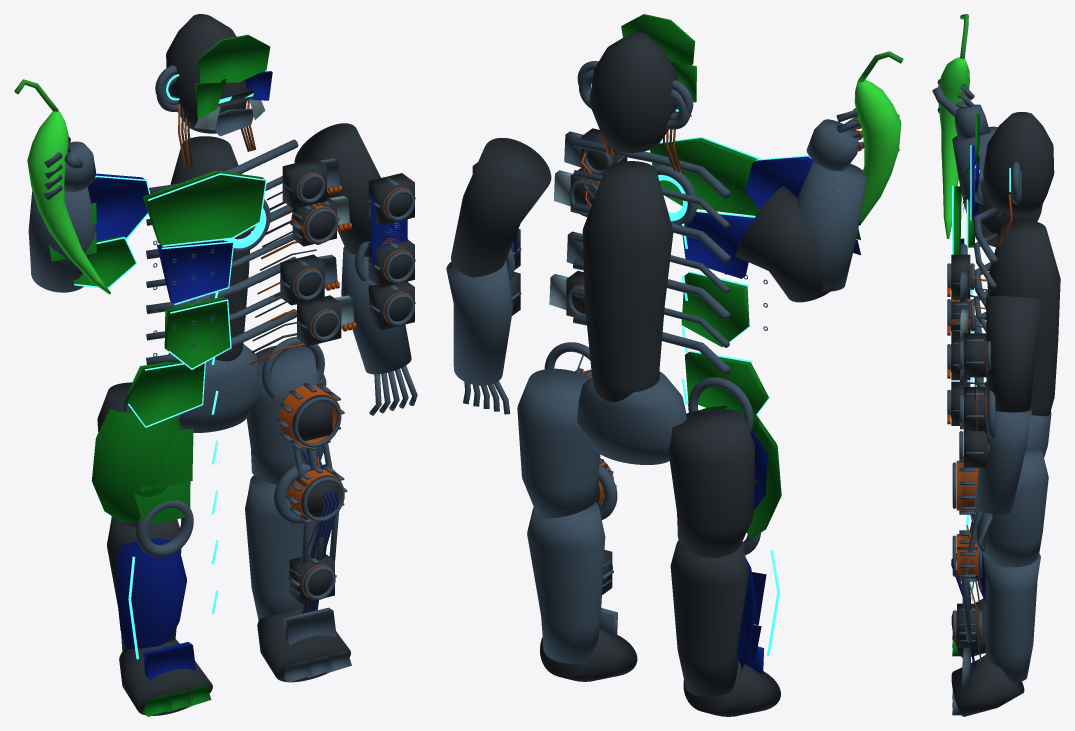
Rendered from robot.glb.
3 renders of one model, left to right at view 1: azimuth 30°, elevation 25°; view 2: azimuth 150°, elevation 25°; view 3: azimuth 270°, elevation 25°, orthographic. The views are drawn at different scales.
Visible parts, largest first — view 1: V4_ARMOR_BREASTPLATE, V4_LEFT_ARMOR_MORPHED_THIGH, V4_LEFT_CURVED_SHIN_COBALT, MECHANICS_SHIN_ASTRAGALUS, MECHANICS_THIGH_FEMUR, RIGHT_EXPOSED_ARM_STRUCTURAL_UPPER, V4_DOWNWARD_CURVED_GREEN_CHILI, V4_TAPERED_HIP_LOAD_BEAM, V4_SKULL_STRUCTURAL_TAPER, LEFT_ARM_RAISED_FOREARM, RIGHT_EXPOSED_FOREARM_ACTUATOR, V4_ARMOR_SIDE_HIP (+34 smaller); view 2: V4_CENTRAL_SPINE_GIMBAL, ARMOR_THIGH_FEMUR, MECHANICS_SHIN_ASTRAGALUS, MECHANICS_THIGH_FEMUR, ARMOR_SHIN_ASTRAGALUS, RIGHT_EXPOSED_ARM_STRUCTURAL_UPPER, V4_SKULL_STRUCTURAL_TAPER, V4_TAPERED_HIP_LOAD_BEAM, RIGHT_EXPOSED_FOREARM_ACTUATOR, LEFT_ARM_RAISED_BICEPS, LEFT_ARM_RAISED_FOREARM, V4_ARMOR_BREASTPLATE (+20 smaller); view 3: V4_CENTRAL_SPINE_GIMBAL, RIGHT_EXPOSED_ARM_STRUCTURAL_UPPER, MECHANICS_SHIN_ASTRAGALUS, V4_SKULL_STRUCTURAL_TAPER, MECHANICS_THIGH_FEMUR, RIGHT_EXPOSED_FOREARM_ACTUATOR, MECHANICS_FOOT_SHELL, V4_DOWNWARD_CURVED_GREEN_CHILI, LEFT_ARM_RAISED_FOREARM, LEFT_ARM_RAISED_BICEPS, RIGHT_ELBOW_SHOULDER_BRUSHLESS_MOTOR_01_STATOR_BLOCK, RIGHT_ELBOW_SHOULDER_BRUSHLESS_MOTOR_02_STATOR_BLOCK (+25 smaller).
Part boxes in pixels (x1,y1,x2,y2): V4_ARMOR_BREASTPLATE: (143,170,265,245); V4_LEFT_ARMOR_MORPHED_THIGH: (92,409,180,522); V4_LEFT_CURVED_SHIN_COBALT: (116,538,186,649); MECHANICS_SHIN_ASTRAGALUS: (245,475,316,620); MECHANICS_THIGH_FEMUR: (246,345,326,484); RIGHT_EXPOSED_ARM_STRUCTURAL_UPPER: (294,123,392,256); V4_DOWNWARD_CURVED_GREEN_CHILI: (27,111,110,294); V4_TAPERED_HIP_LOAD_BEAM: (168,344,260,432); V4_SKULL_STRUCTURAL_TAPER: (166,14,247,133); LEFT_ARM_RAISED_FOREARM: (28,187,96,292); RIGHT_EXPOSED_FOREARM_ACTUATOR: (341,247,411,374); V4_ARMOR_SIDE_HIP: (124,361,204,425); V4_CENTRAL_SPINE_GIMBAL: (582,161,673,401); ARMOR_THIGH_FEMUR: (668,408,755,557); MECHANICS_SHIN_ASTRAGALUS: (527,502,605,663); MECHANICS_THIGH_FEMUR: (517,368,600,518); ARMOR_SHIN_ASTRAGALUS: (670,540,748,696); RIGHT_EXPOSED_ARM_STRUCTURAL_UPPER: (451,138,551,277); V4_SKULL_STRUCTURAL_TAPER: (589,32,677,152); V4_TAPERED_HIP_LOAD_BEAM: (577,372,686,464); RIGHT_EXPOSED_FOREARM_ACTUATOR: (446,260,513,385); LEFT_ARM_RAISED_BICEPS: (735,186,834,302); LEFT_ARM_RAISED_FOREARM: (797,161,866,291); V4_ARMOR_BREASTPLATE: (650,138,760,215); V4_CENTRAL_SPINE_GIMBAL: (987,220,1060,416); RIGHT_EXPOSED_ARM_STRUCTURAL_UPPER: (986,296,1042,412); MECHANICS_SHIN_ASTRAGALUS: (983,554,1040,682); V4_SKULL_STRUCTURAL_TAPER: (983,112,1054,214); MECHANICS_THIGH_FEMUR: (981,447,1048,567); RIGHT_EXPOSED_FOREARM_ACTUATOR: (974,408,1031,514); MECHANICS_FOOT_SHELL: (951,655,1024,716); V4_DOWNWARD_CURVED_GREEN_CHILI: (938,57,969,238); LEFT_ARM_RAISED_FOREARM: (952,126,997,213); LEFT_ARM_RAISED_BICEPS: (978,179,1042,247); RIGHT_ELBOW_SHOULDER_BRUSHLESS_MOTOR_01_STATOR_BLOCK: (964,387,986,431); RIGHT_ELBOW_SHOULDER_BRUSHLESS_MOTOR_02_STATOR_BLOCK: (964,333,986,377).
Size of the model in its own units: 1.73 by 2.69 by 0.5413.
Materials: 10 (4 with a texture image).
